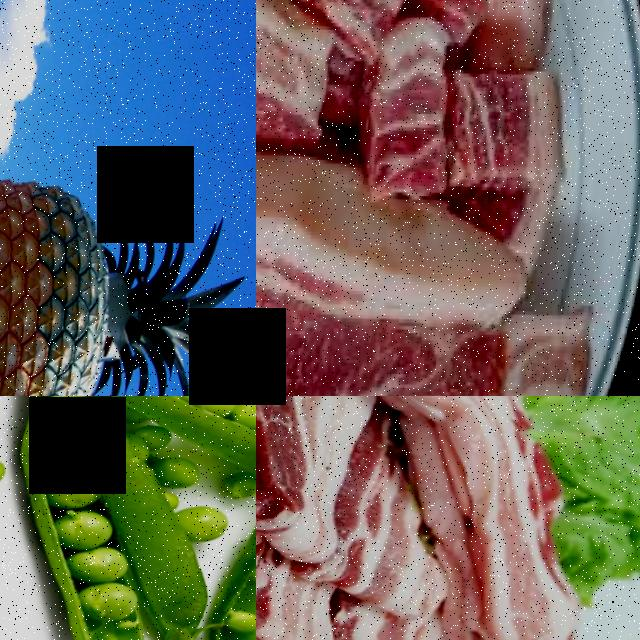peas: (42, 466, 158, 626)
pork belly: (256, 147, 550, 396), (303, 455, 451, 603), (361, 9, 470, 202), (450, 515, 599, 640), (453, 55, 581, 199), (256, 0, 353, 139), (297, 0, 459, 45), (256, 607, 476, 640)
